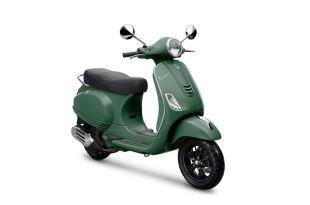motorcycle: (70, 36, 225, 191)
